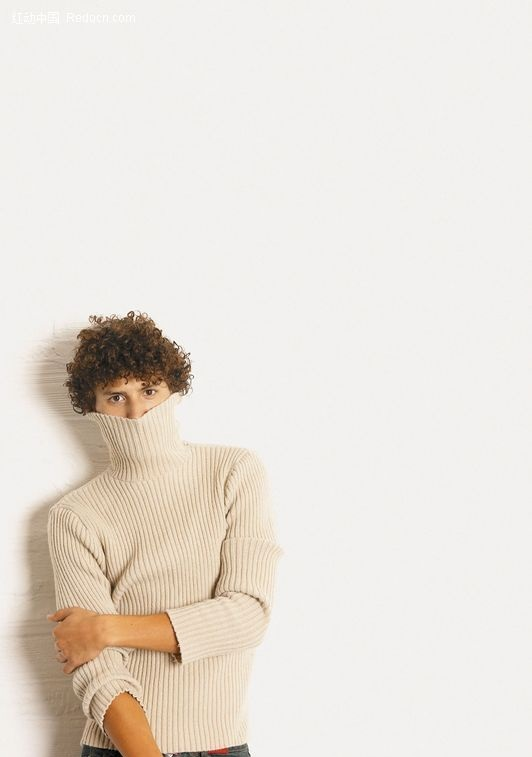face_mask: (98, 352, 170, 465)
